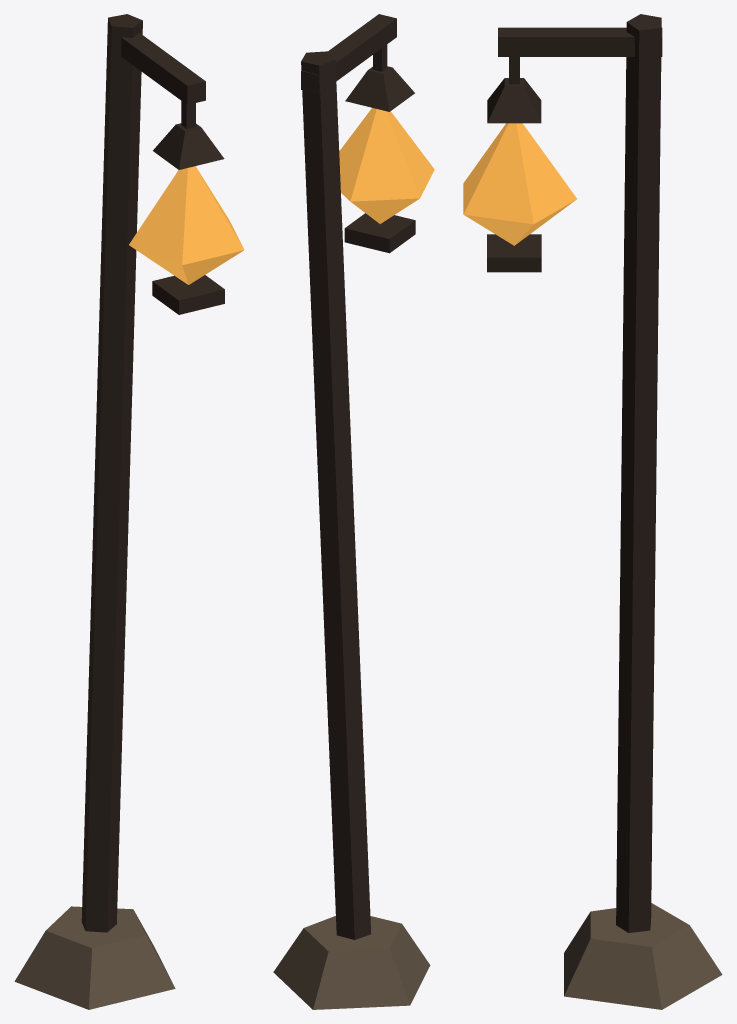
Rendered from lampiao_fixo.glb.
3 views of the same model, side by side, from view 1: azimuth 30°, elevation 25°; view 2: azimuth 150°, elevation 25°; view 3: azimuth 270°, elevation 25° (orthographic). The views are drawn at different scales.
Parts seen in each view (by area): view 1: poste, chama, lanterna; view 2: poste, chama, lanterna; view 3: poste, chama, lanterna.
Boxes of the visible parts, x1,y1,x2,y2 form: poste: [14, 14, 205, 1009]; chama: [129, 166, 244, 284]; lanterna: [152, 101, 224, 314]; poste: [273, 14, 430, 1009]; chama: [339, 108, 434, 223]; lanterna: [344, 44, 415, 253]; poste: [498, 14, 722, 1009]; chama: [463, 123, 576, 245]; lanterna: [487, 57, 541, 272].
Size of the model in its own units: 0.3315 by 1.95 by 0.473.
